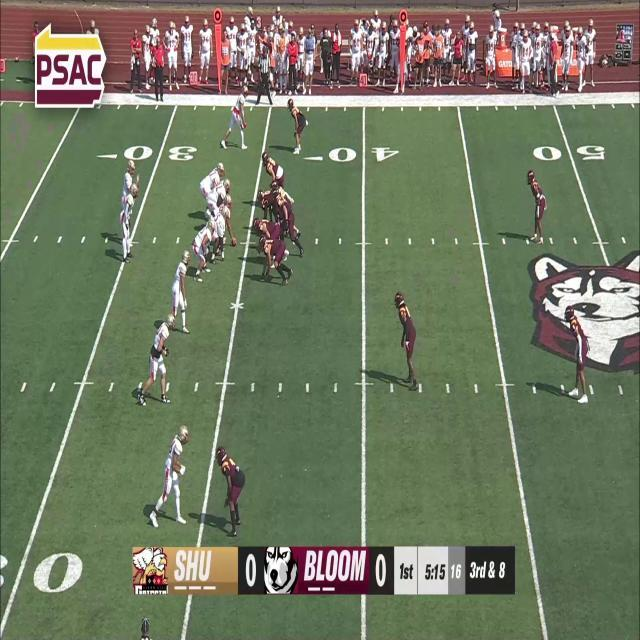football: (230, 236, 238, 246)
